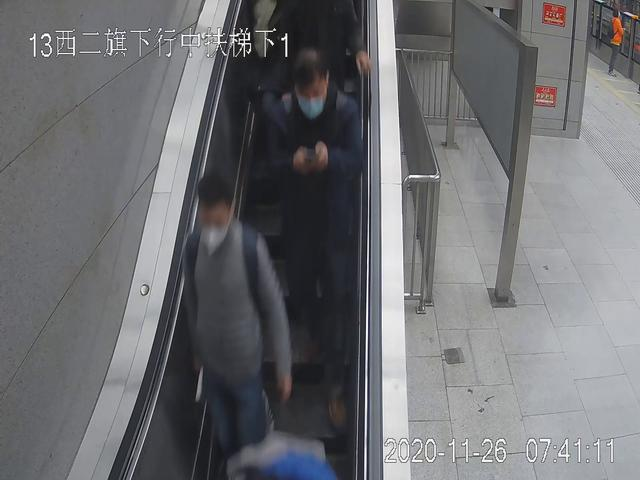person: (178, 173, 292, 480), (275, 50, 363, 431), (606, 8, 627, 80)
